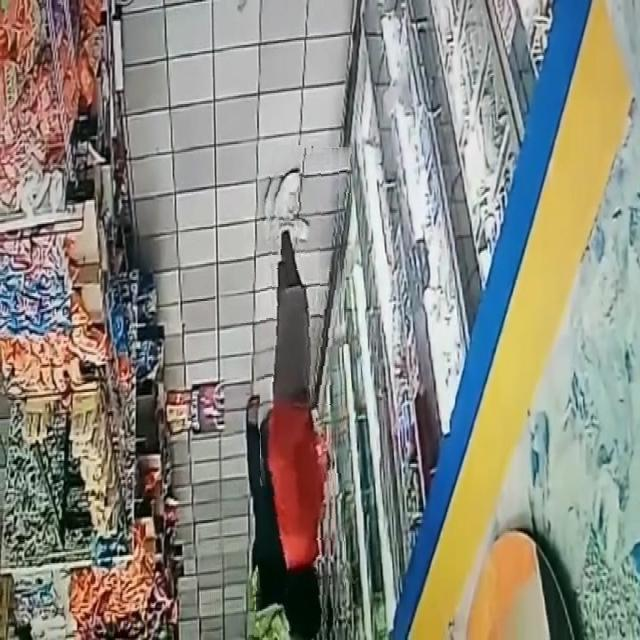Shoplifting: (260, 146, 346, 640)
